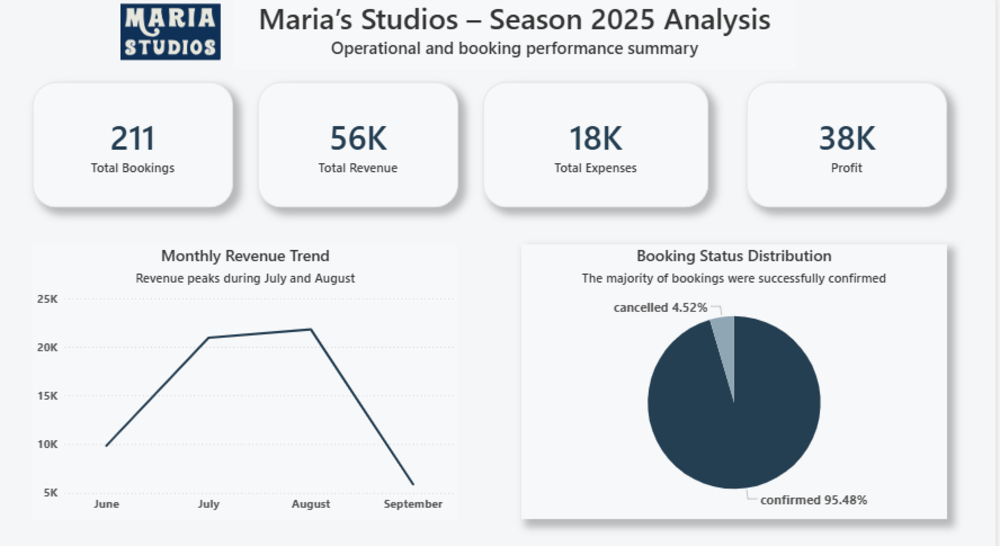

Layout of this report page (visuals, bound fields, positions):
{"tool":"powerbi","page":{"name":"Season 2025 Performance Overview","canvas":[1280,720],"ordinal":0},"visuals":[{"type":"card","fields":{"Values":["Bookings.Total Revenue"]},"box":[336,112,256,160],"z":0},{"type":"lineChart","title":"Monthly Revenue Trend","fields":{"Y":["Sum(Bookings.Total Amount)"],"Category":["Bookings.Month Name"]},"box":[48,320,544,352],"z":1000},{"type":"pieChart","title":"Booking Status Distribution","fields":{"Category":["Bookings.Booking Status"],"Y":["CountNonNull(Bookings.Booking ID)"]},"box":[672,320,544,352],"z":2000},{"type":"textbox","box":[304,0,720,96],"z":3000},{"type":"image","box":[160,0,128,96],"z":4000},{"type":"card","fields":{"Values":["Bookings.Total Bookings"]},"box":[48,112,256,160],"z":5000},{"type":"card","fields":{"Values":["Bookings.Total Expenses"]},"box":[624,112,288,160],"z":6000},{"type":"card","fields":{"Values":["Bookings.Profit"]},"box":[960,112,256,160],"z":7000}]}

Visuals, with their boxes on the page's 1280x720 design canvas (x1, y1, x2, y2). These are canvas units, not pixel positions in the 1000x546 screenshot, which may show the page scaled, cropped or inside an application window:
card - Bookings.Total Revenue: <box>336,112,592,272</box>
"Monthly Revenue Trend" lineChart: <box>48,320,592,672</box>
"Booking Status Distribution" pieChart: <box>672,320,1216,672</box>
textbox: <box>304,0,1024,96</box>
image: <box>160,0,288,96</box>
card - Bookings.Total Bookings: <box>48,112,304,272</box>
card - Bookings.Total Expenses: <box>624,112,912,272</box>
card - Bookings.Profit: <box>960,112,1216,272</box>
